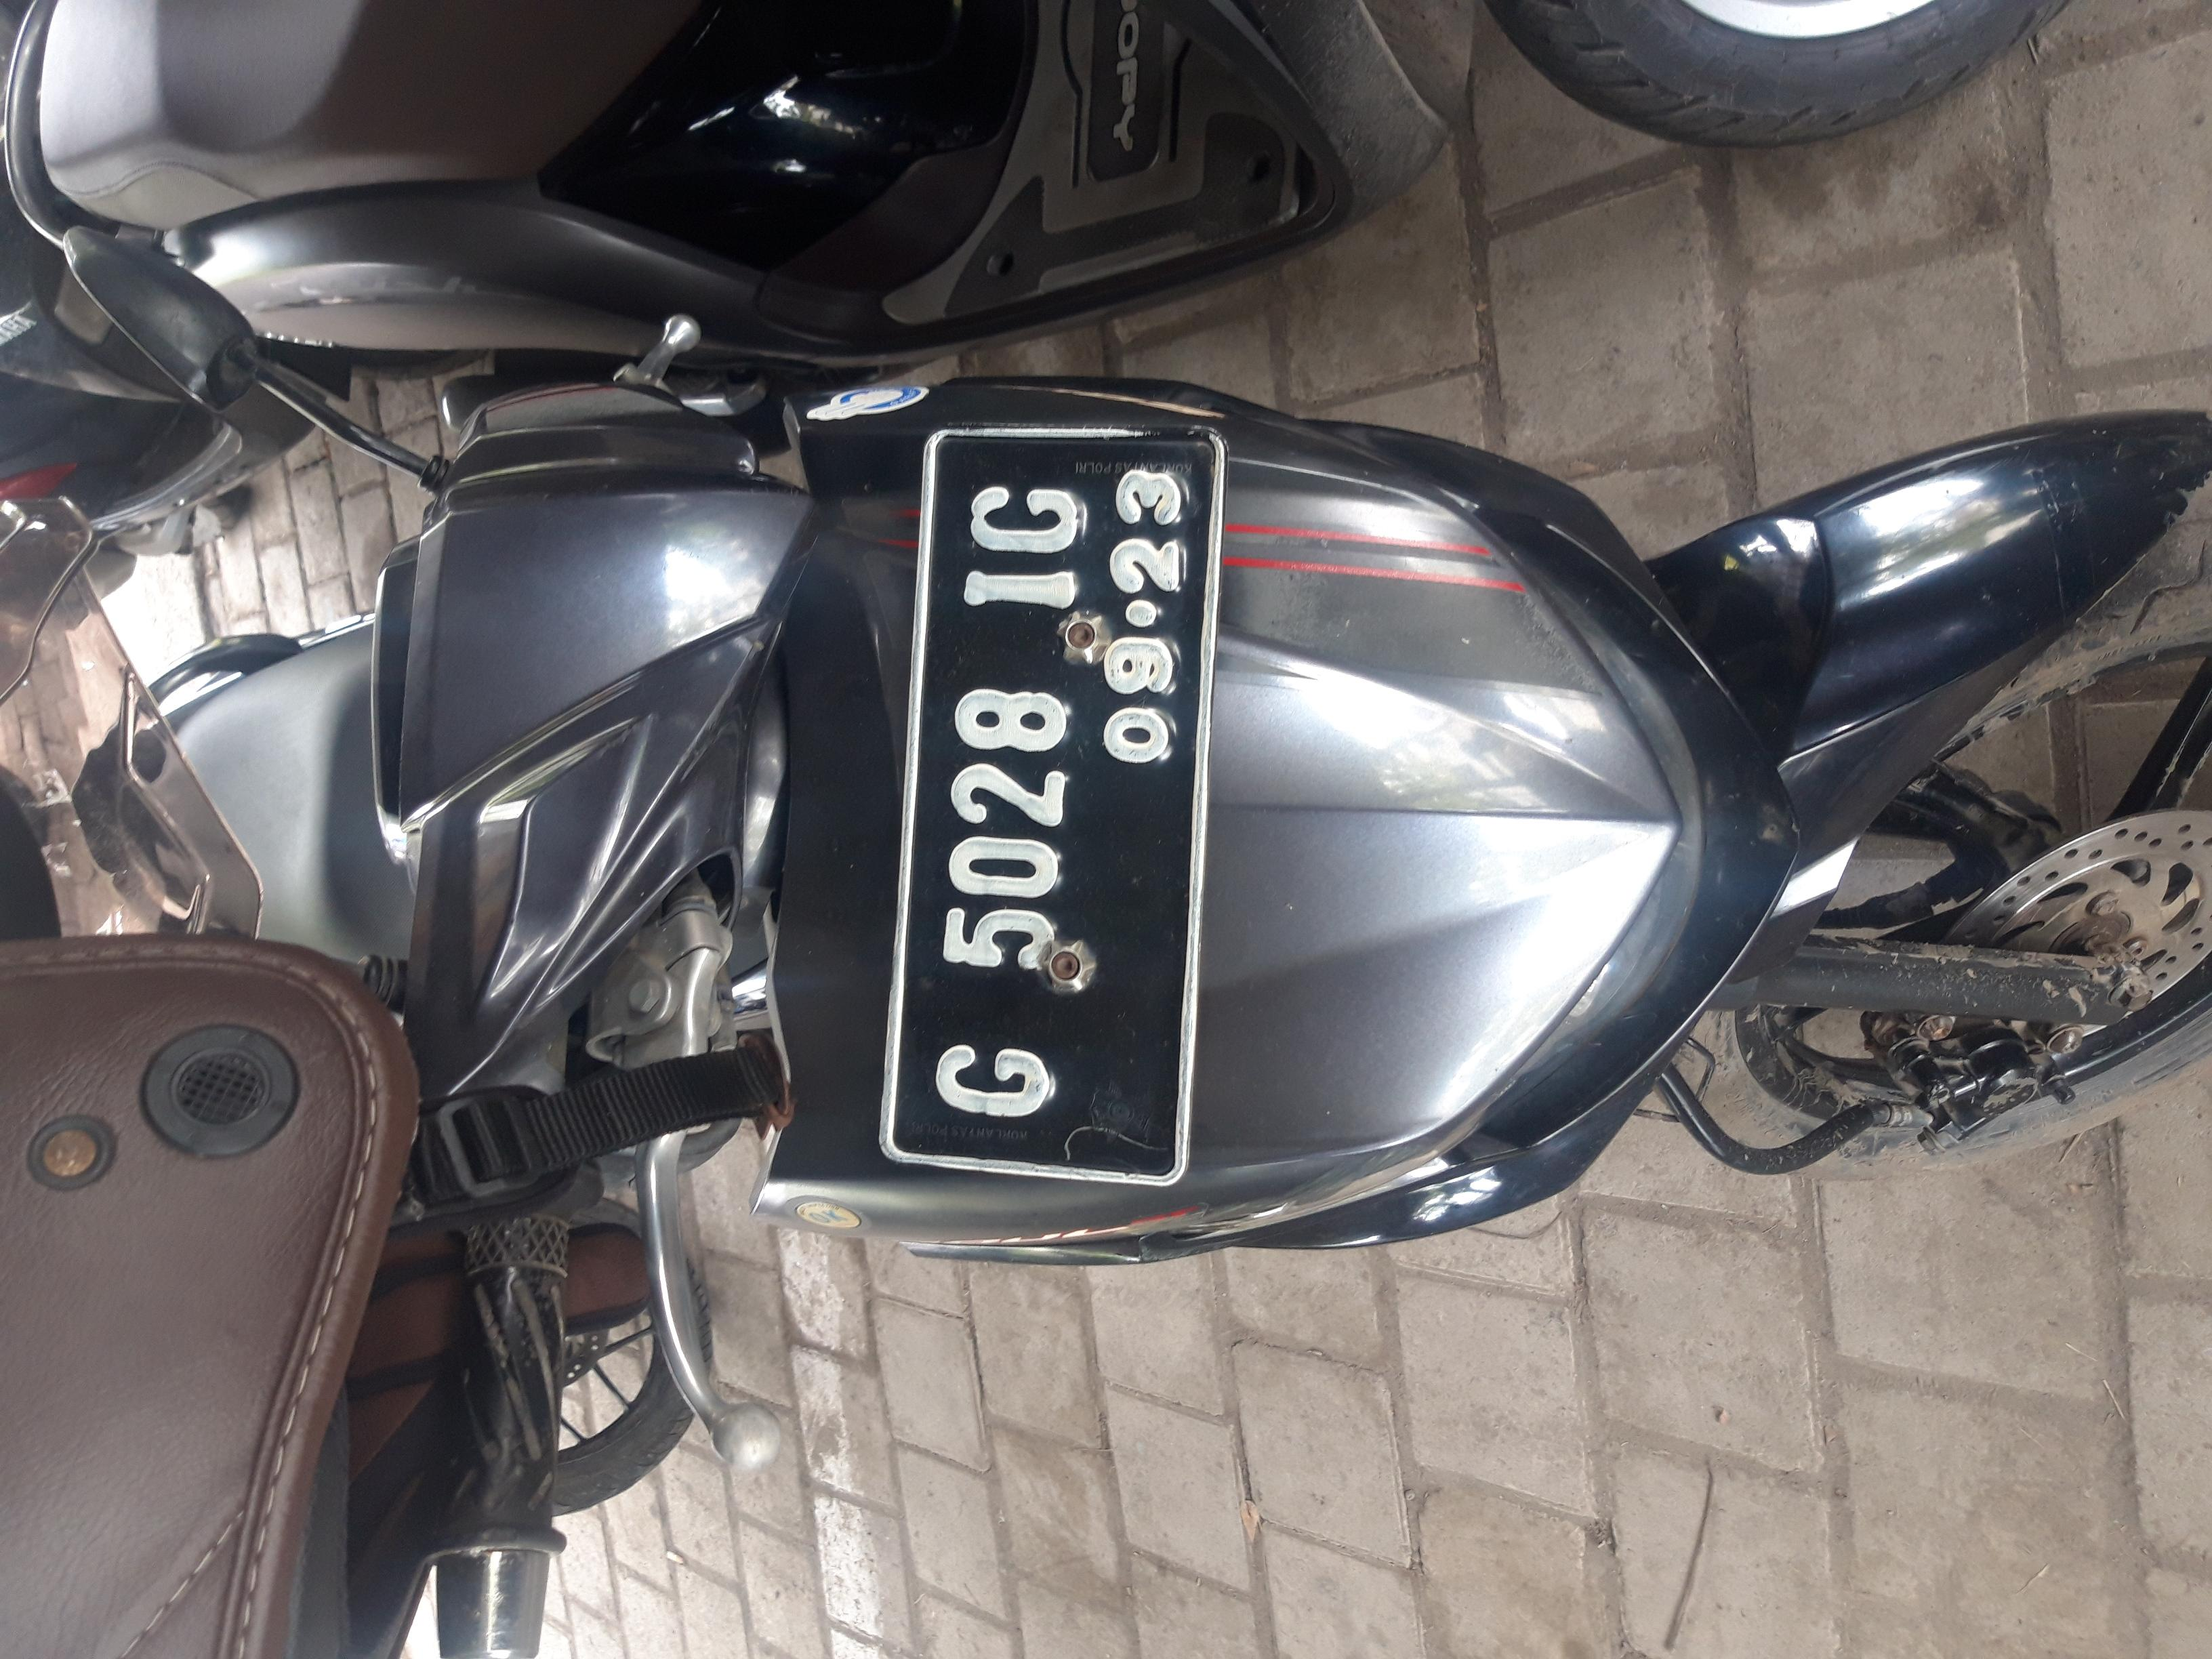plat: (634, 660, 1642, 917)
